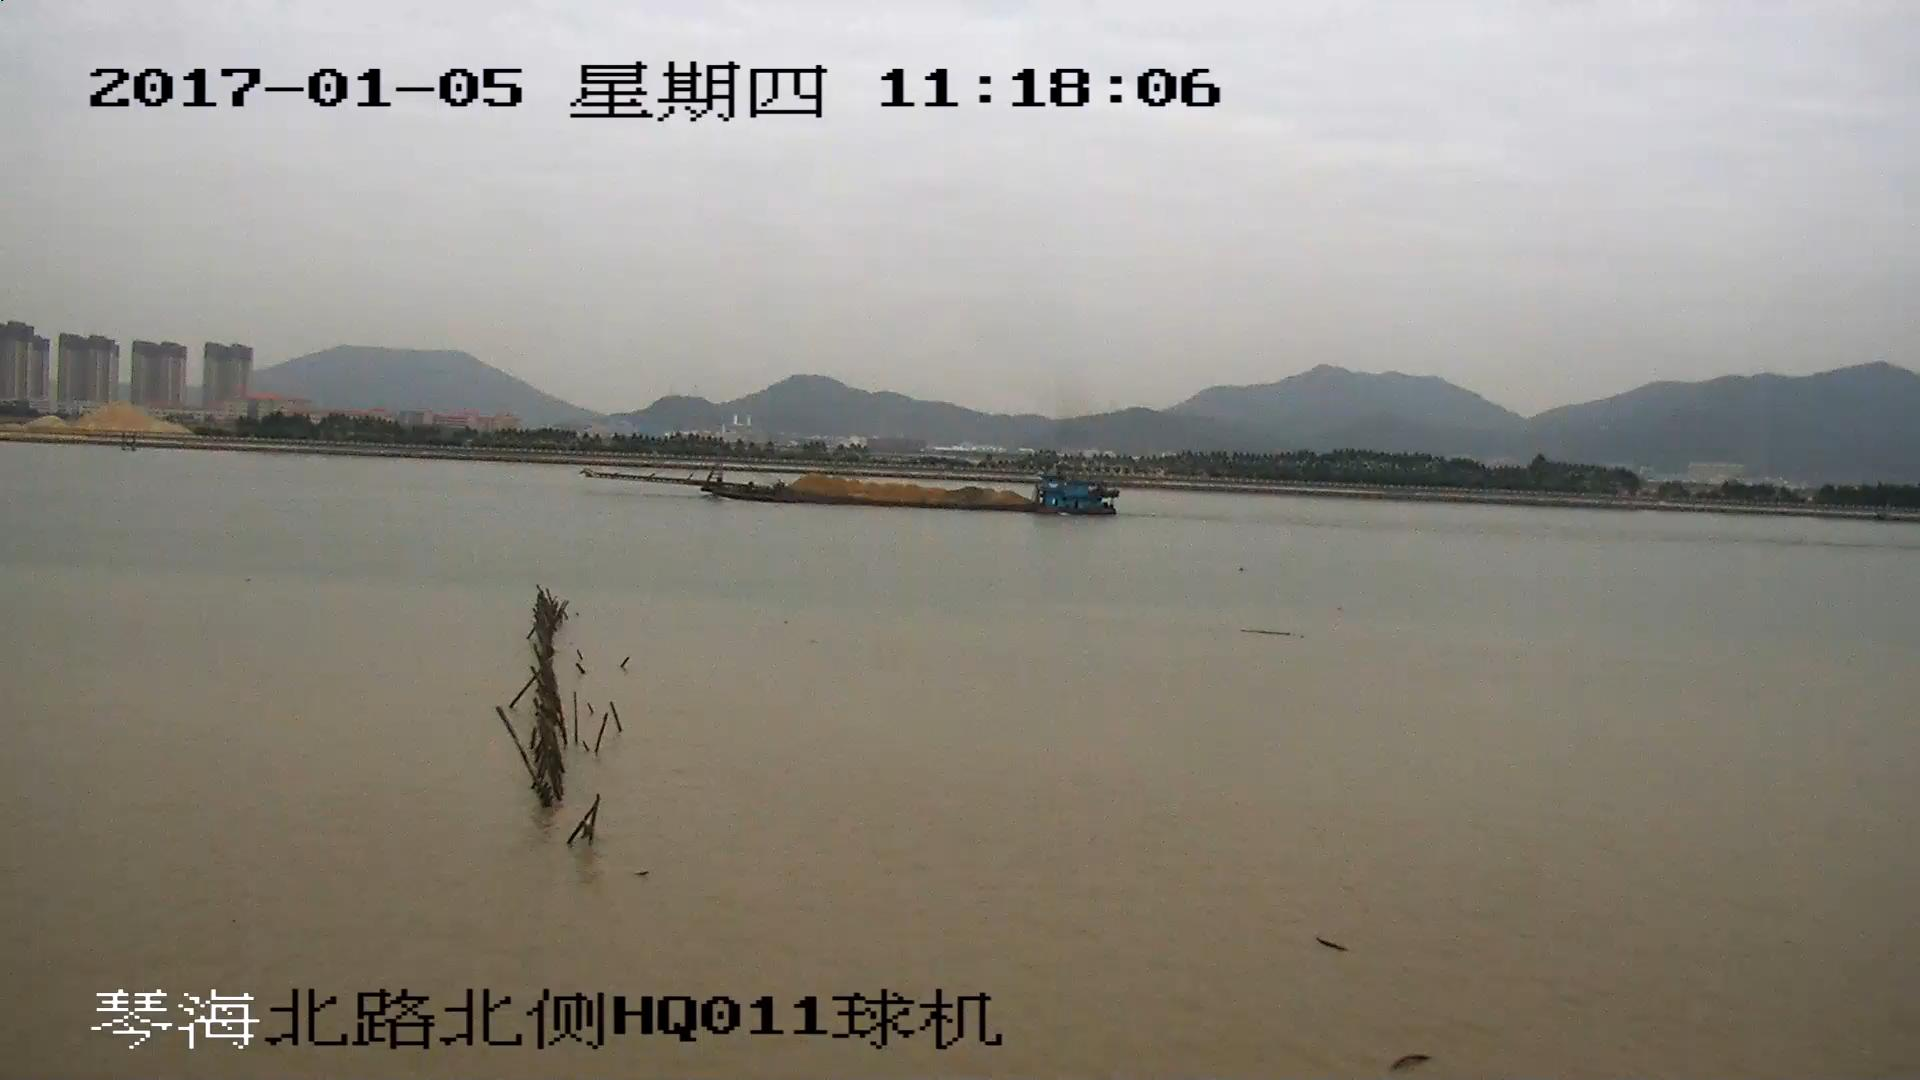ore carrier: (590, 448, 1116, 518)
